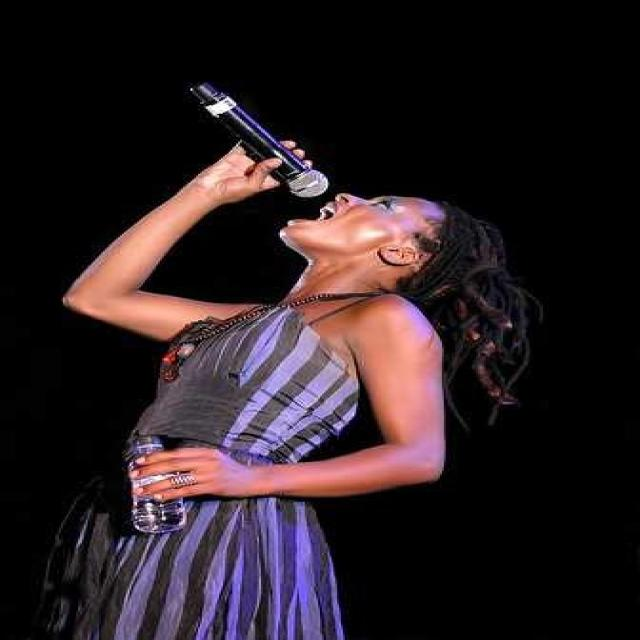microphone: (188, 82, 330, 197)
